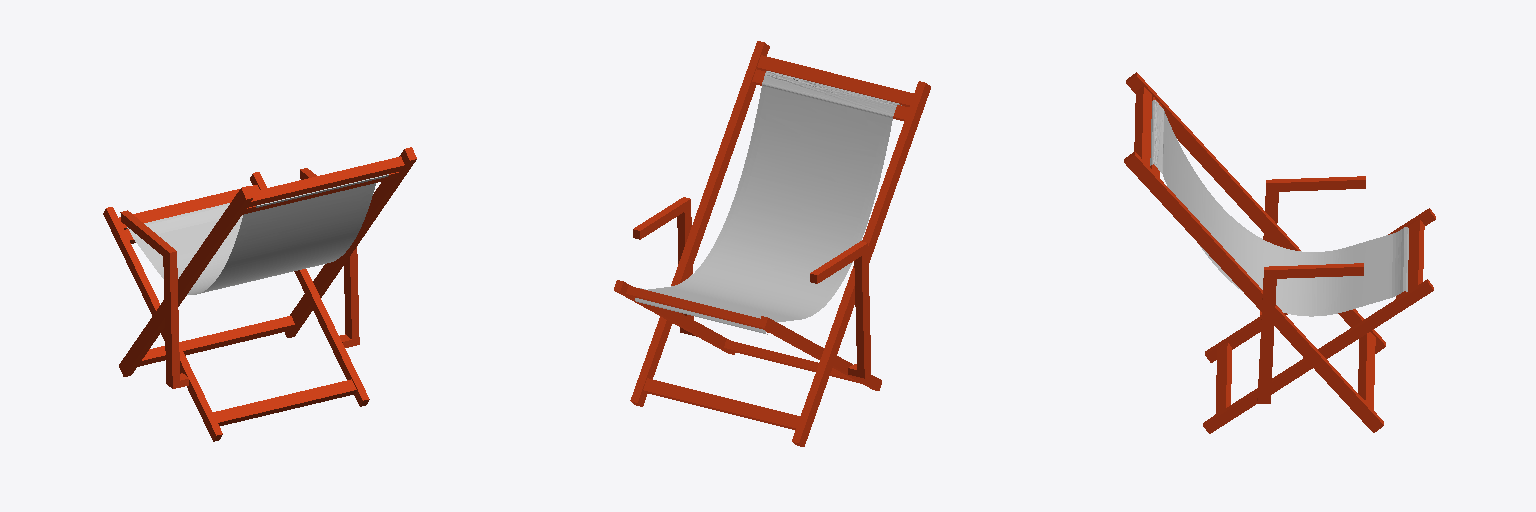
File: cadeira.obj
The picture shows the model from 3 angles: view 1: azimuth 30°, elevation 25°; view 2: azimuth 150°, elevation 25°; view 3: azimuth 270°, elevation 25°; orthographic projection.
Parts seen in each view (by area): view 1: BeachChair; view 2: BeachChair; view 3: BeachChair.
Part boxes in pixels (bbox=[...]): BeachChair: bbox=[103, 147, 416, 441]; BeachChair: bbox=[614, 41, 930, 446]; BeachChair: bbox=[1124, 72, 1435, 433].
Bounding box in the file's own units: 2.34 × 3.4 × 3.39.